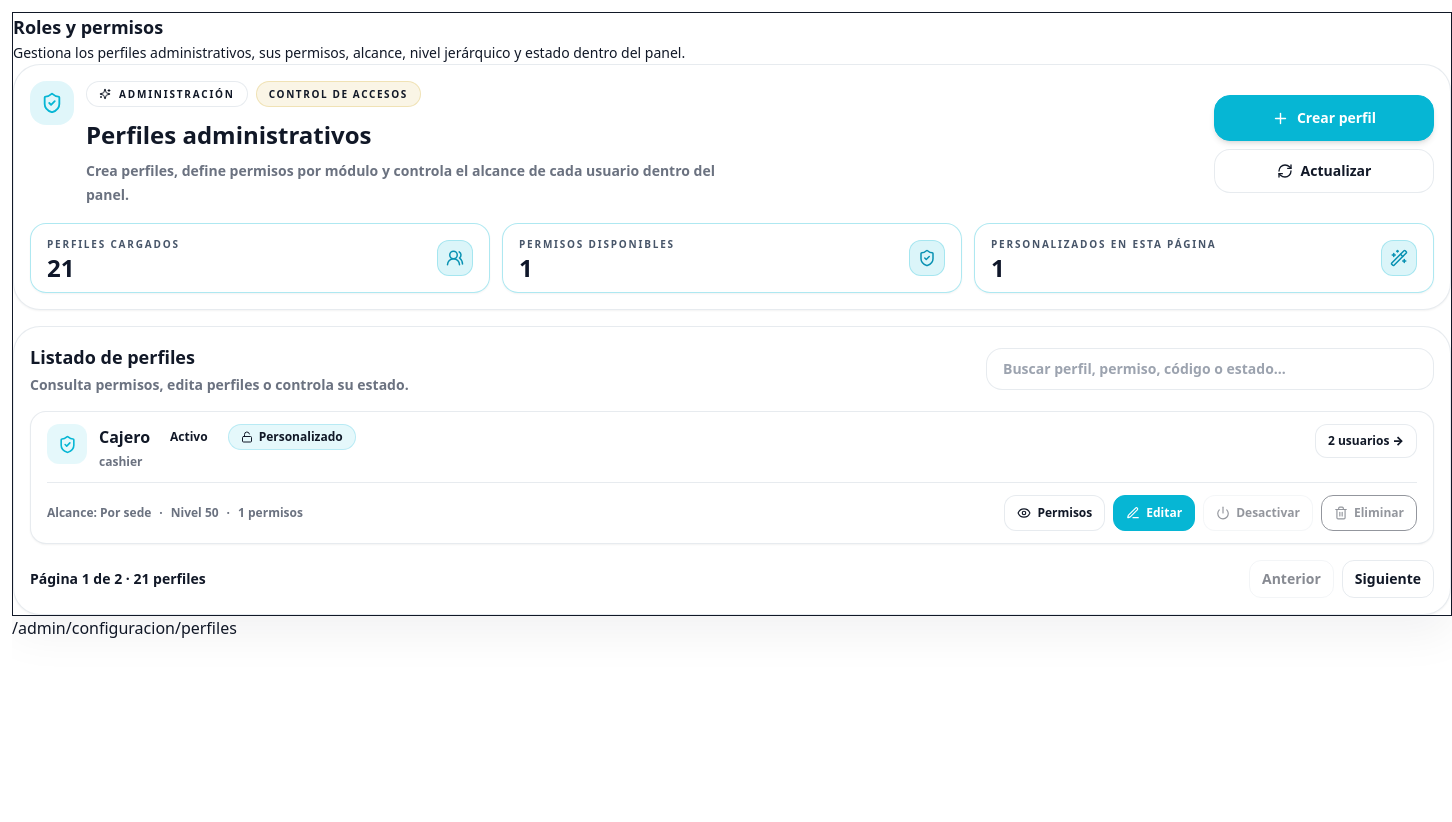
Test case: abre Usuarios con el perfil seleccionado
Step 1. Click the button with aria-label "Ver 2 usuarios de Cajero" → (1366, 441), box 1315,424 -> 1417,458
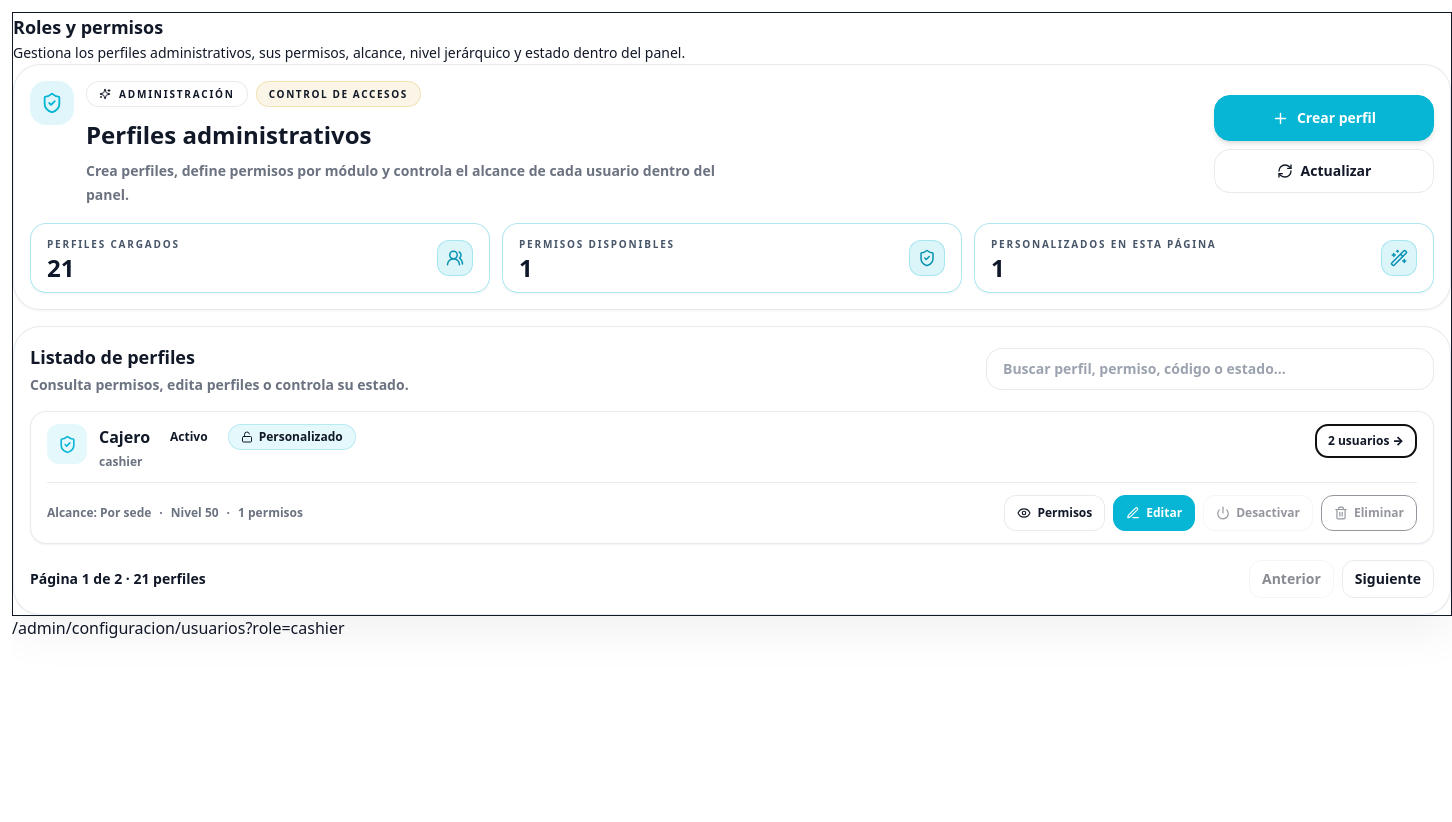
Result: the text with test id "route" reads "/admin/configuracion/usuarios?role=cashier" at 12,617 -> 345,639
